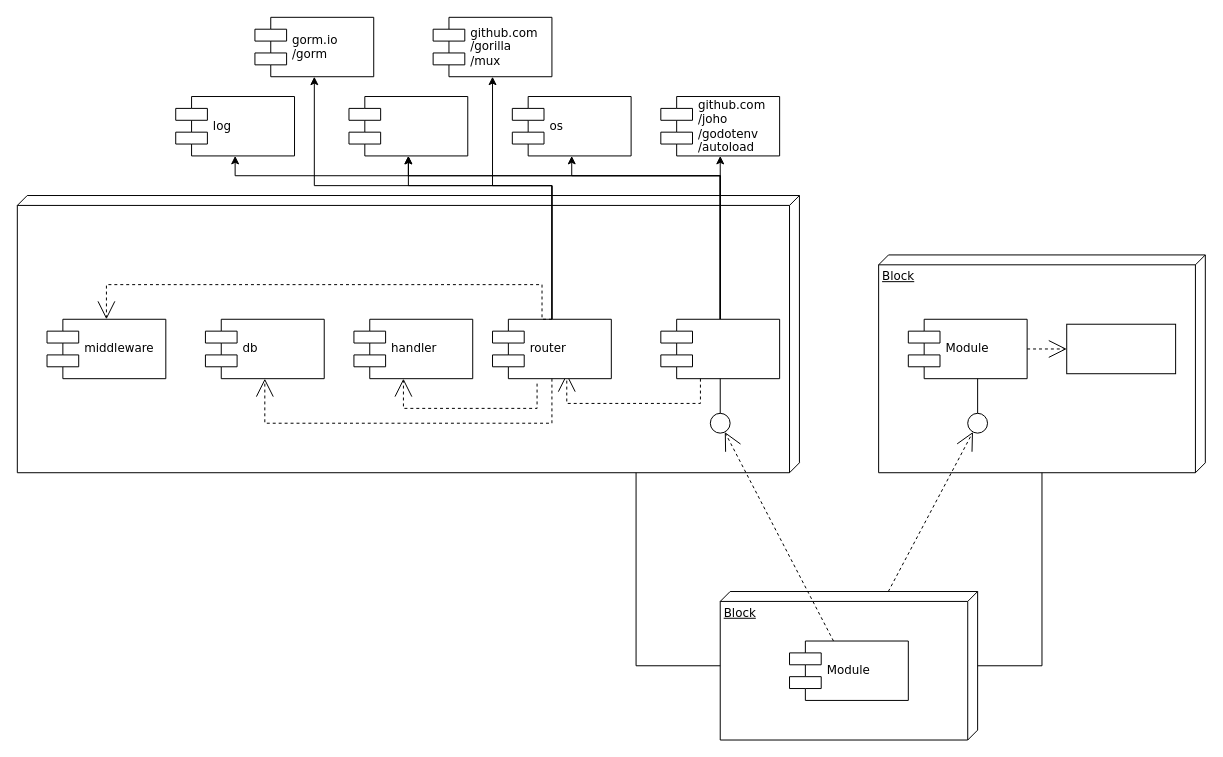
This 1223x757 diagram has some shape labels left out. Here are the shapes that lost their labels. From the top down, the box of each, then its label:
(348, 96, 468, 156): net/http
(16, 195, 799, 473): Backend
(660, 318, 780, 379): Main
(1066, 323, 1176, 374): «interface» Name
